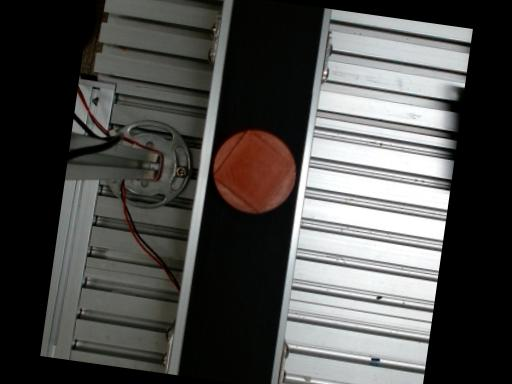Brown_Waper: (212, 129, 295, 213)
Square: (213, 129, 295, 213)
